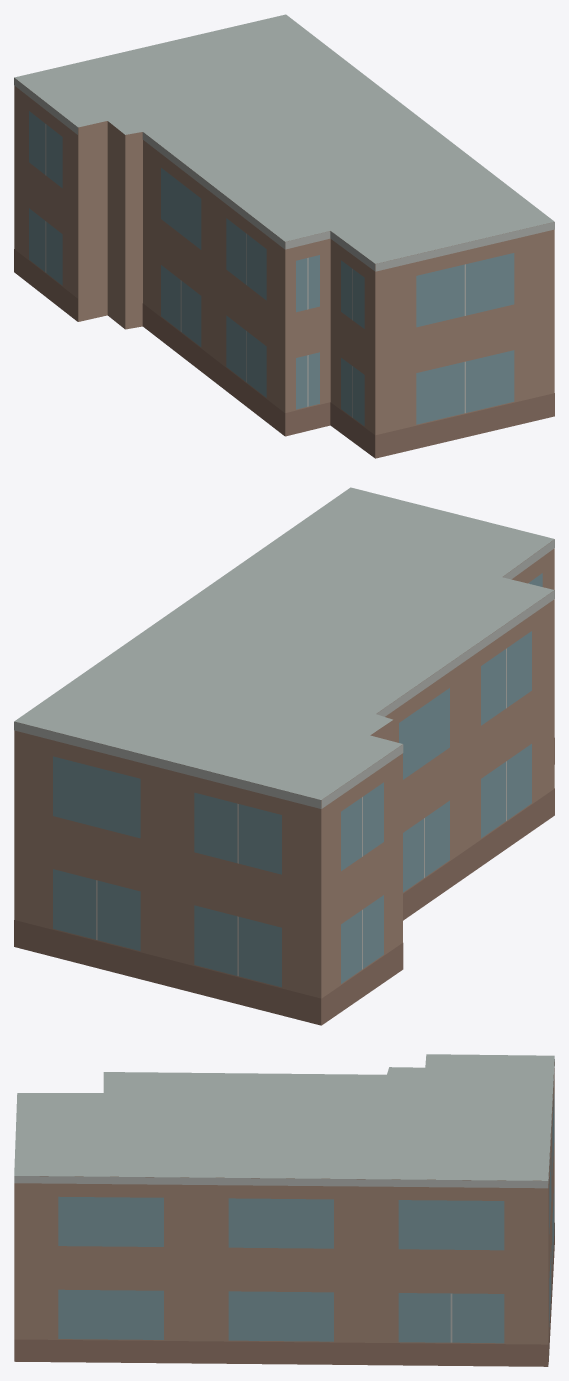
The model's file is survey-upis-32581196.glb.
The picture shows the model from 3 angles, top to bottom: view 1: azimuth 30°, elevation 25°; view 2: azimuth 150°, elevation 25°; view 3: azimuth 270°, elevation 25°; orthographic projection. The views are drawn at different scales.
Visible parts, largest first — view 1: survey-upis-32581196.tmp; view 2: survey-upis-32581196.tmp; view 3: survey-upis-32581196.tmp.
Boxes of the visible parts, x1=… form: survey-upis-32581196.tmp: x1=14, y1=14, x2=554, y2=458; survey-upis-32581196.tmp: x1=14, y1=487, x2=554, y2=1025; survey-upis-32581196.tmp: x1=14, y1=1054, x2=554, y2=1366.
Bounding box in the file's own units: 8.93 × 6.1 × 16.09.
